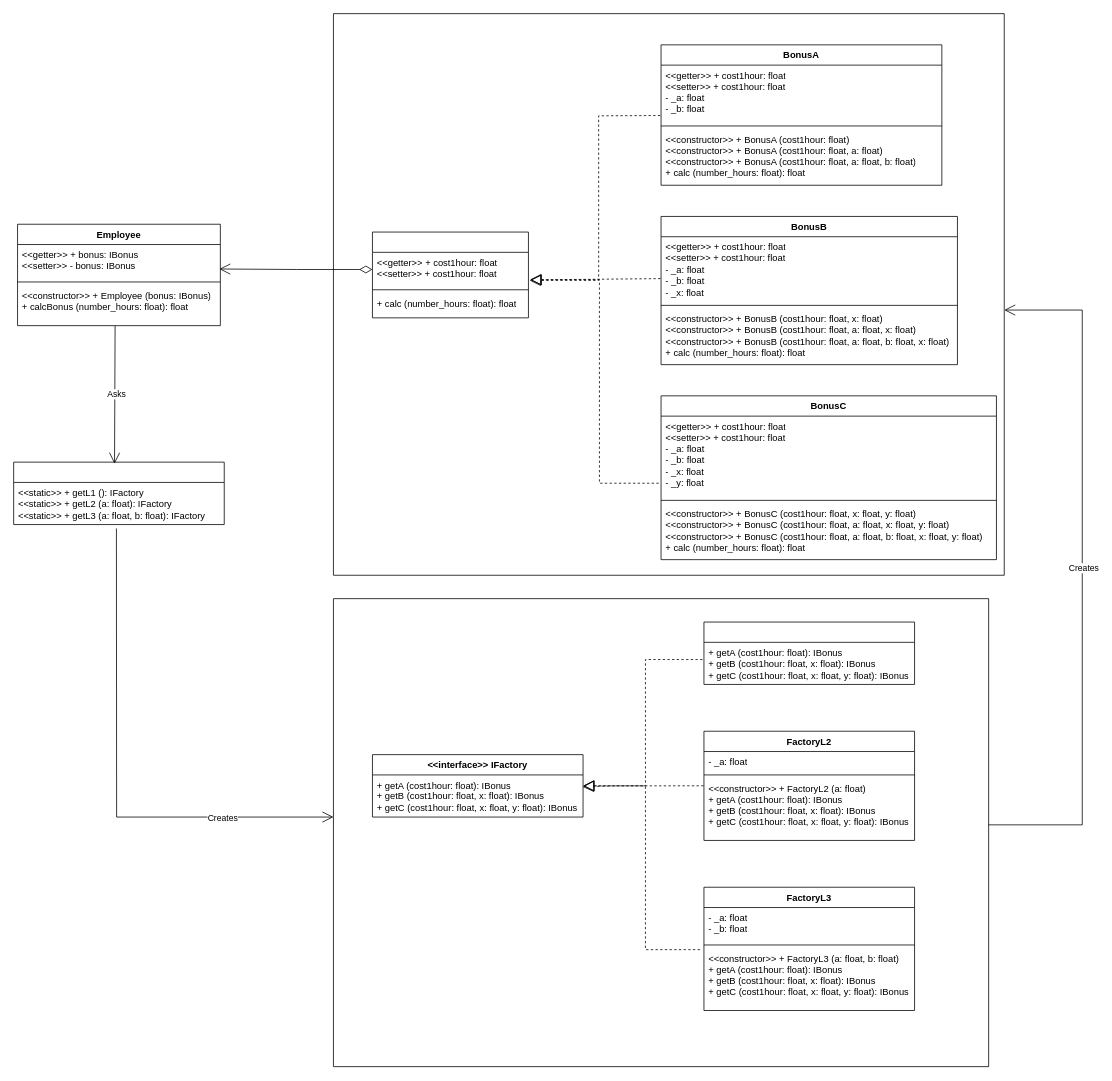
Some shapes in this 1112 by 1081 pixel diagram are drawn without their labels. The box of each missing label's shape, as (x1, y1, x2, y2) in pixels:
<<interface>> IBonus: (372, 231, 528, 318)
FactoryL1: (703, 621, 915, 684)
Lec03BLib: (13, 461, 224, 525)
